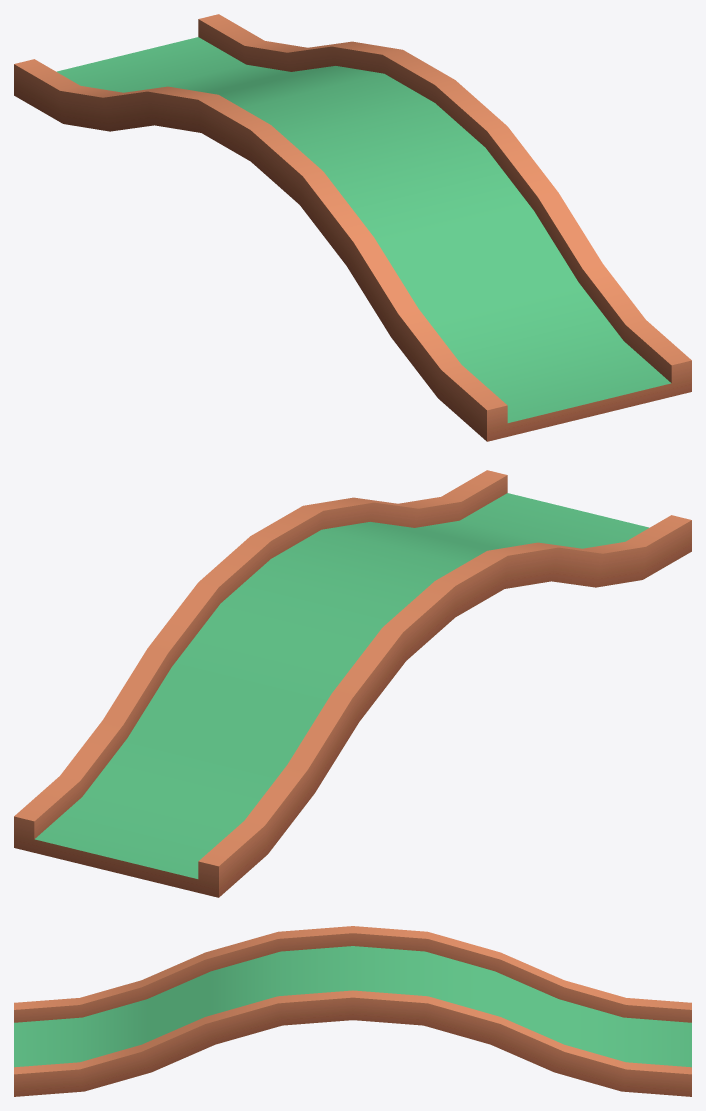
File: spline-default-straight-bump-up.glb
3 views of the same model, one above another, from view 1: azimuth 30°, elevation 25°; view 2: azimuth 150°, elevation 25°; view 3: azimuth 270°, elevation 25° (orthographic). The views are drawn at different scales.
Visible parts, largest first — view 1: spline-default-straight-bump-up; view 2: spline-default-straight-bump-up; view 3: spline-default-straight-bump-up.
Boxes of the visible parts, bbox=[...] form: spline-default-straight-bump-up: bbox=[14, 14, 691, 441]; spline-default-straight-bump-up: bbox=[14, 470, 691, 897]; spline-default-straight-bump-up: bbox=[14, 926, 691, 1096].
Bounding box in the file's own units: 0.9998 × 0.6468 × 4.
Materials: 1 (1 with a texture image).
